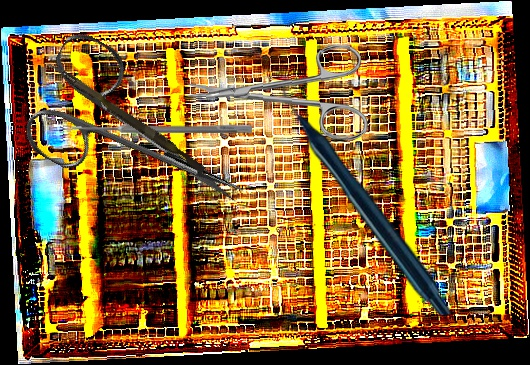Handpiece: (282, 80, 452, 315)
Iris Scissors: (11, 26, 273, 250), (184, 39, 371, 141)
Pusher: (43, 60, 209, 175)
Surgical Spoon: (63, 124, 252, 133)
